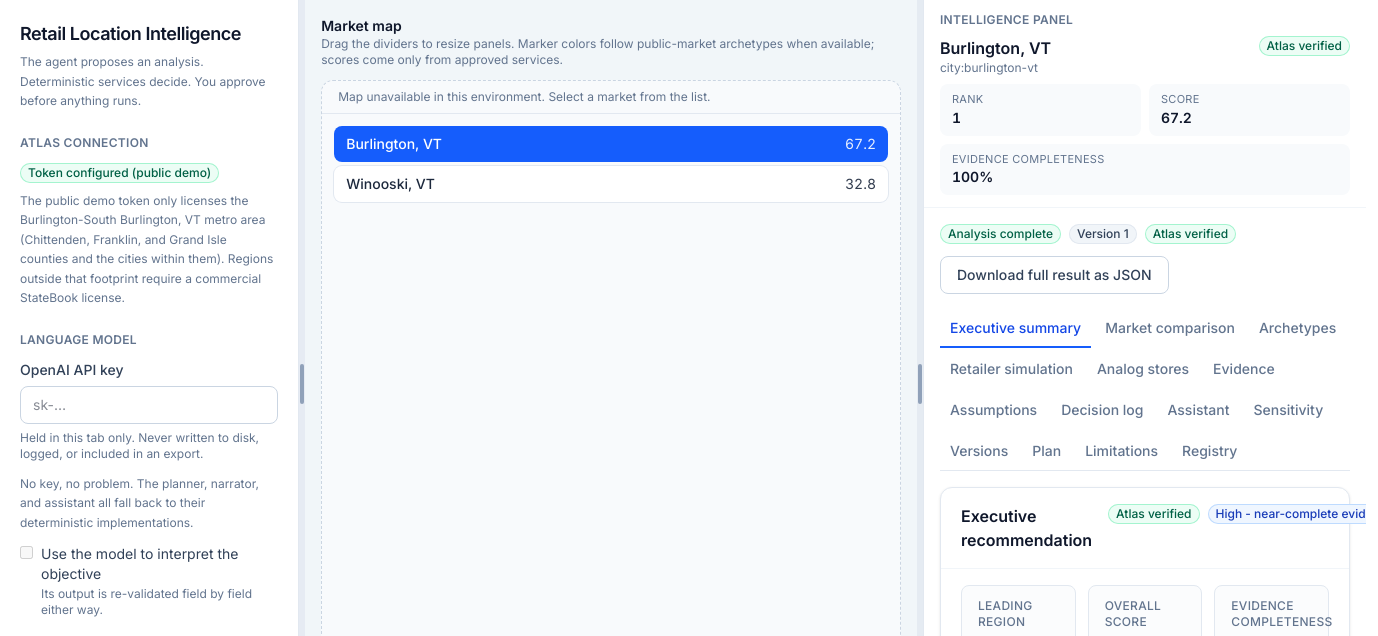
credential handling › says replies are deterministic when no model is configured
The width and height of the screenshot is (1378, 636).
Expected: the heading "Executive recommendation" is shown, [961, 504, 1092, 552]
Click the tab "Assistant" at (1198, 411), box [1158, 392, 1240, 430]
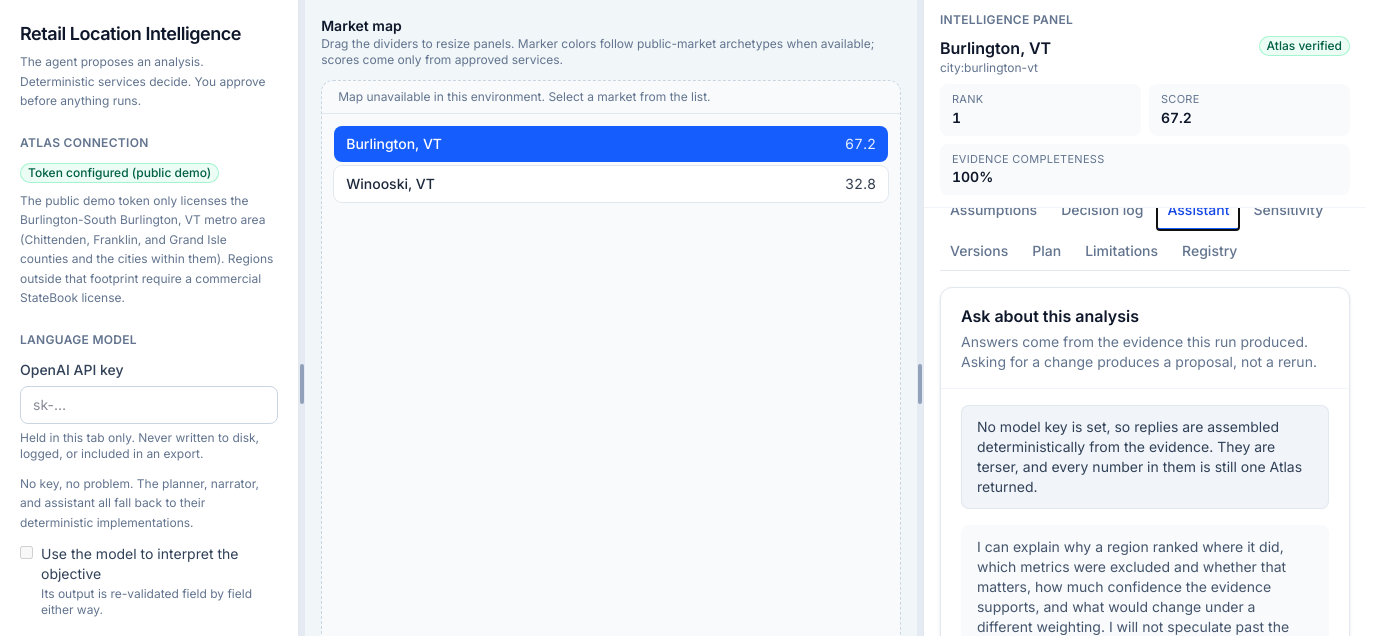
Now the text "replies are assembled deterministically" is shown, box [977, 418, 1302, 495]
